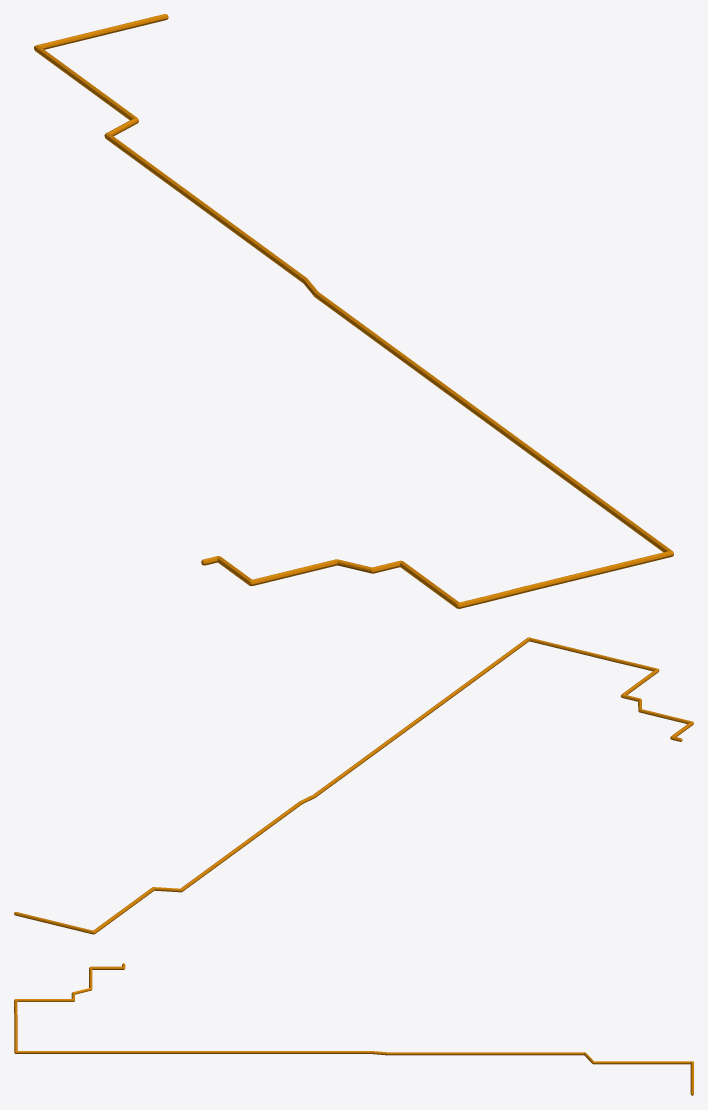
3 views of the same model, one above another, from view 1: azimuth 30°, elevation 25°; view 2: azimuth 150°, elevation 25°; view 3: azimuth 270°, elevation 25° (orthographic). The views are drawn at different scales.
Bounding box in the file's own units: 1875 × 20 × 4124.
